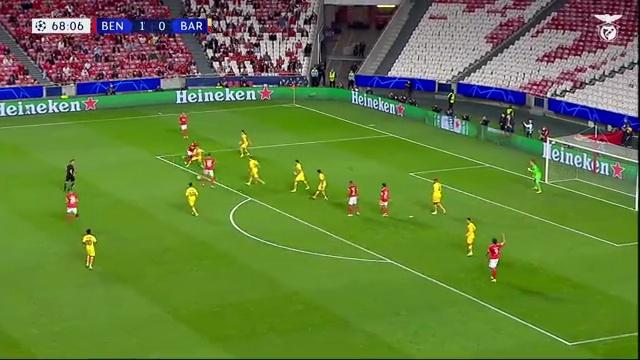football: (194, 171, 204, 182)
player: (487, 234, 505, 281), (82, 229, 97, 270), (291, 160, 309, 191), (246, 155, 264, 185), (201, 153, 215, 187), (432, 178, 445, 214), (185, 183, 199, 216), (312, 169, 327, 199), (528, 159, 541, 193), (348, 181, 359, 215), (465, 218, 475, 255), (186, 146, 204, 166), (66, 191, 78, 220), (379, 183, 389, 216), (184, 140, 197, 164), (240, 130, 250, 156), (179, 112, 187, 138)
referee: (64, 159, 75, 191)
